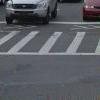Crosswalk: (5, 23, 100, 75)
